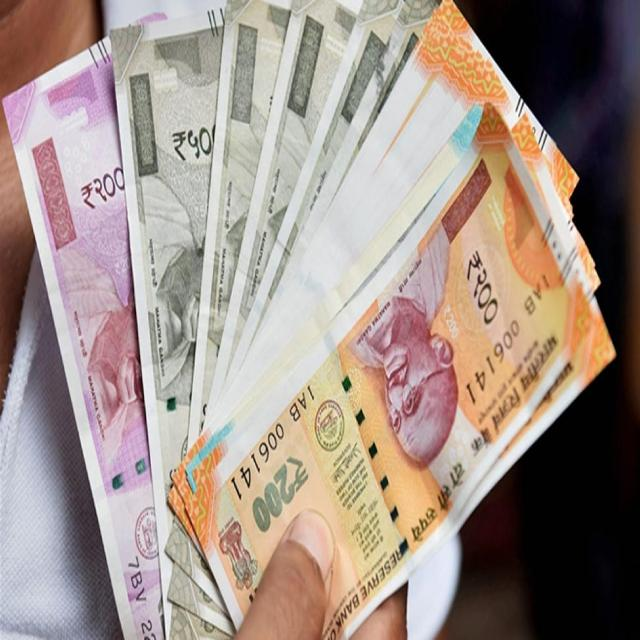200IndianRupees: (183, 99, 602, 637), (319, 106, 602, 571)
